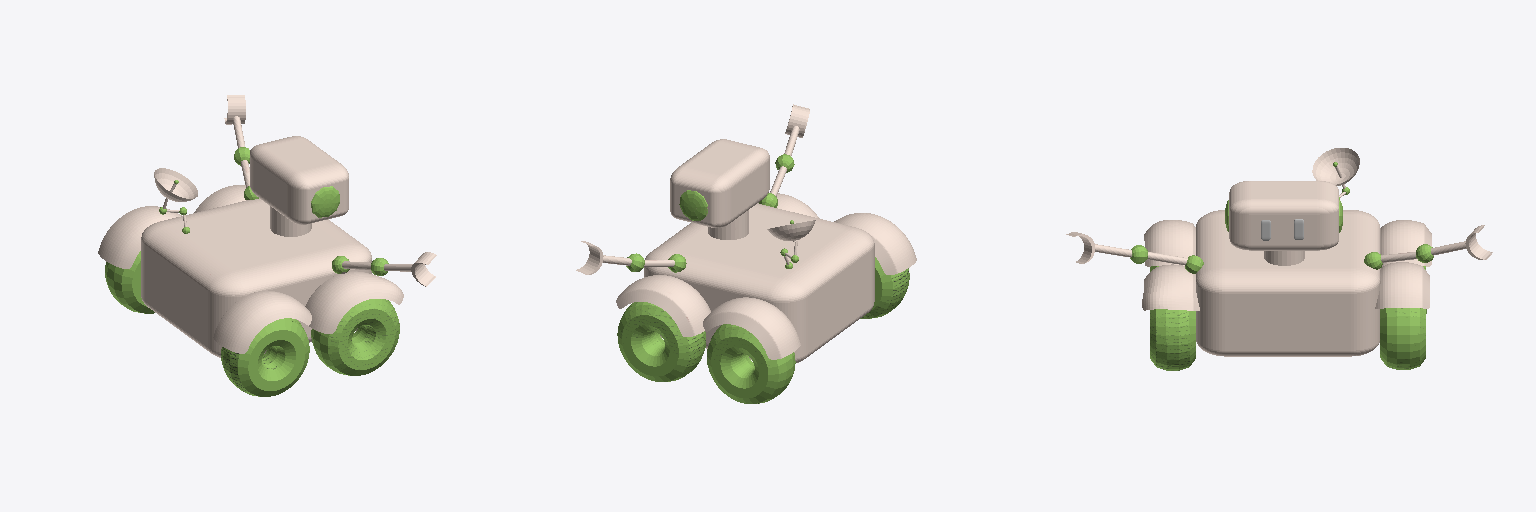
3 views of the same model, side by side, from view 1: azimuth 30°, elevation 25°; view 2: azimuth 150°, elevation 25°; view 3: azimuth 270°, elevation 25° (orthographic).
Parts seen in each view (by area): view 1: Body; view 2: Body; view 3: Body.
Boxes of the visible parts, <box> form: Body: <box>98,95,436,396</box>; Body: <box>576,104,916,403</box>; Body: <box>1066,148,1492,370</box>.
Bounding box in the file's own units: 2.14 × 2.01 × 4.43.
Materials: 2 (1 with a texture image).